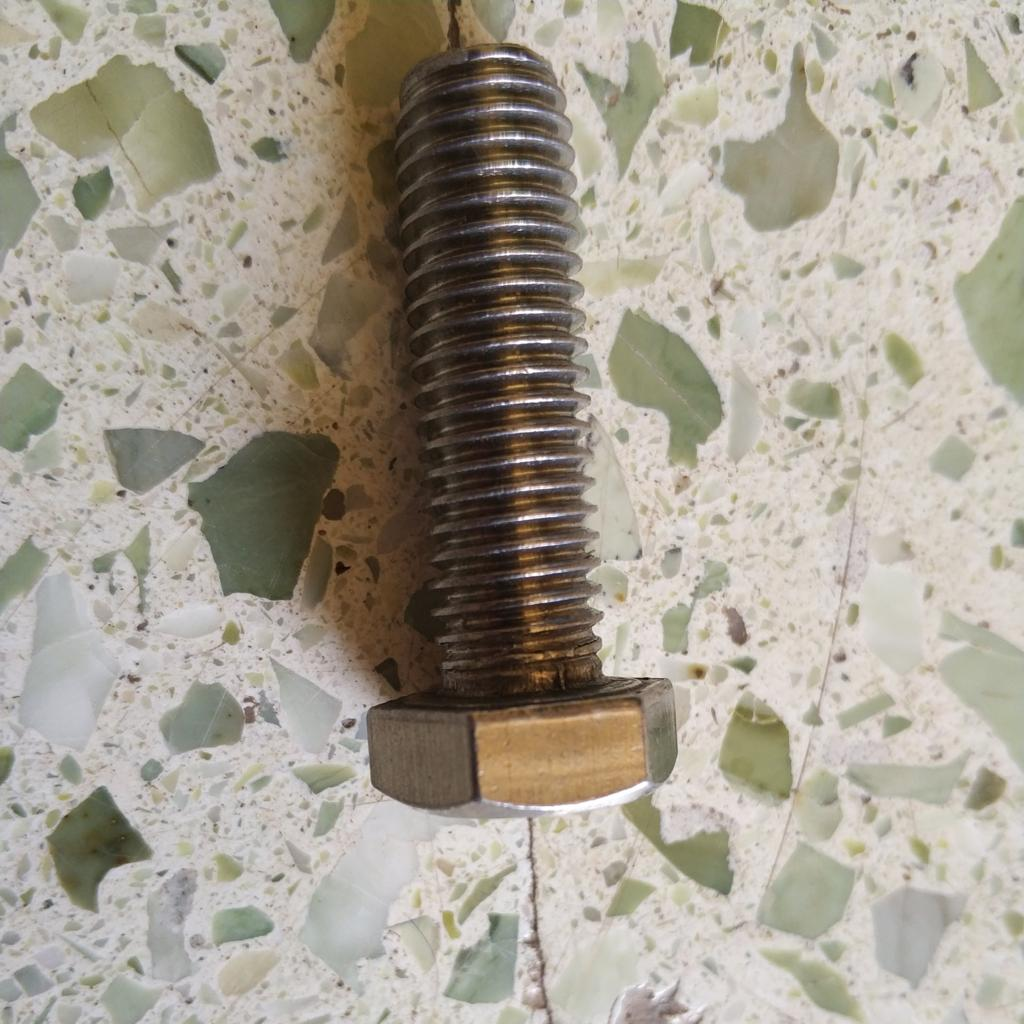screwtype2silver: (359, 42, 689, 823)
